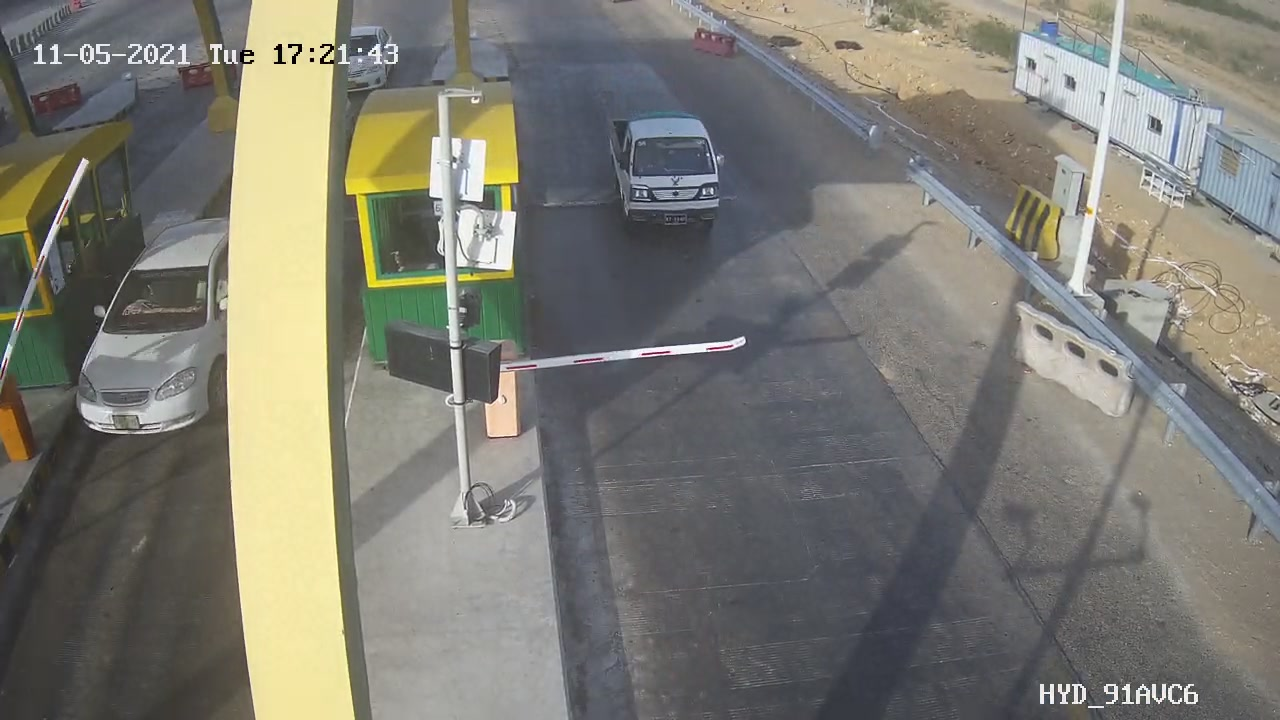F1: (591, 95, 744, 251)
